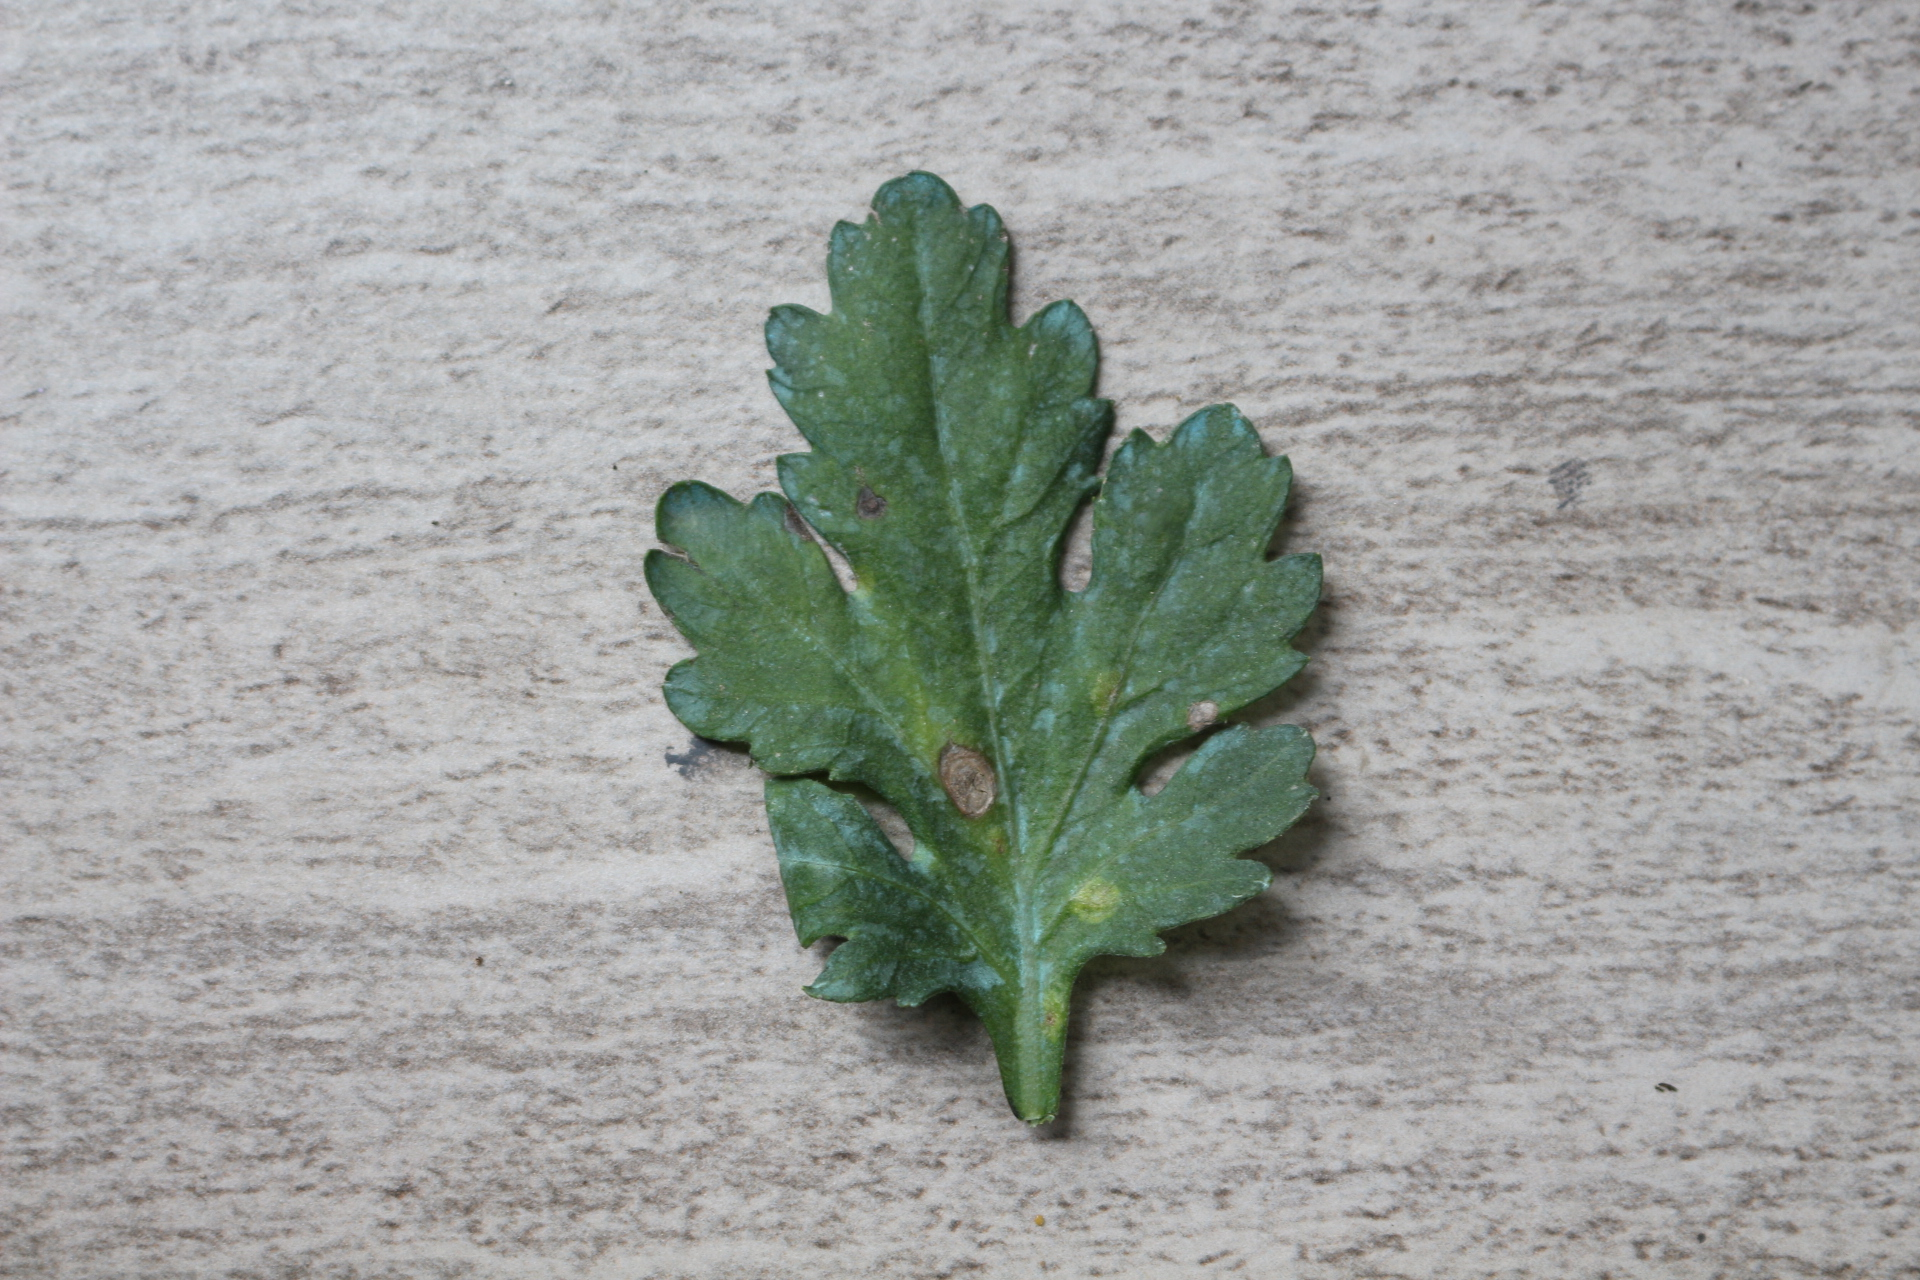namden: (930, 741, 1001, 813)
namsung: (1066, 874, 1124, 916), (859, 486, 891, 524)
